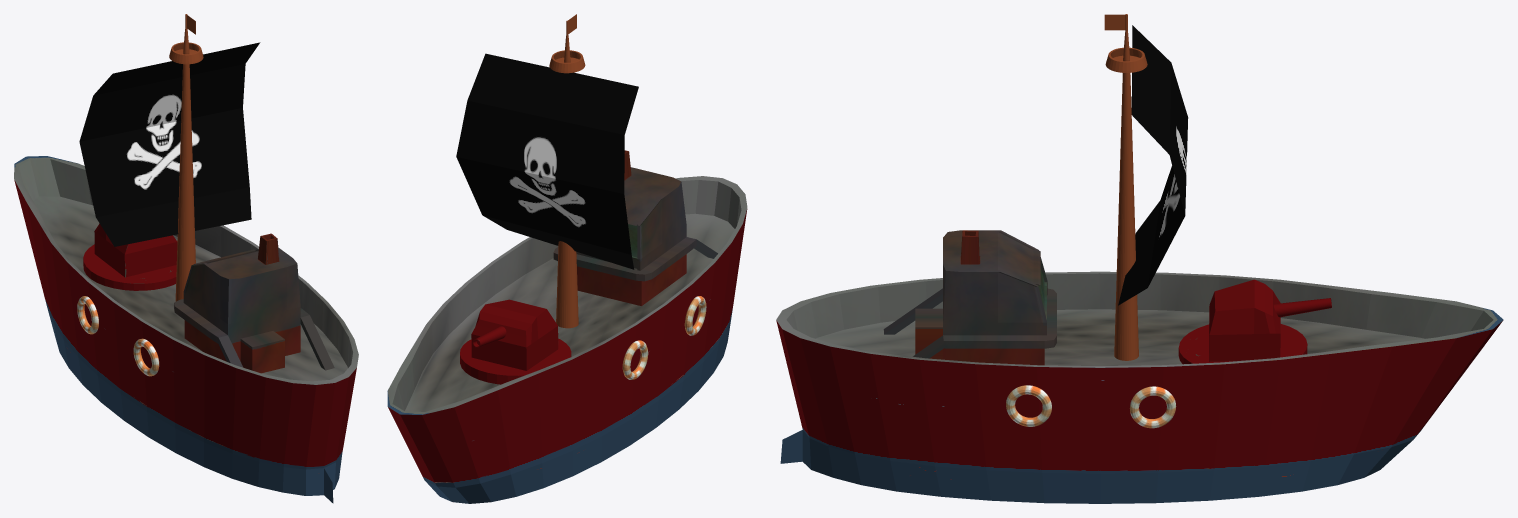
File: enemy.fbx
The picture shows the model from 3 angles, left to right: view 1: azimuth 30°, elevation 25°; view 2: azimuth 150°, elevation 25°; view 3: azimuth 270°, elevation 25°; orthographic projection. The views are drawn at different scales.
Parts seen in each view (by area): view 1: Cylinder, Plane, Cube, Cylinder.002, Cylinder.001, Torus.001, Torus; view 2: Cylinder, Plane, Cube, Cylinder.002, Cylinder.001, Torus, Torus.001; view 3: Cylinder, Cube, Plane, Cylinder.002, Cylinder.001, Torus.002, Torus.003.
Part boxes in pixels (left/top/right/bottom): Cylinder: left=14, top=156, right=358, bottom=503; Plane: left=79, top=42, right=260, bottom=246; Cube: left=174, top=233, right=334, bottom=373; Cylinder.002: left=83, top=223, right=177, bottom=290; Cylinder.001: left=169, top=14, right=203, bottom=301; Torus.001: left=133, top=338, right=159, bottom=376; Torus: left=77, top=296, right=98, bottom=334; Cylinder: left=387, top=176, right=747, bottom=503; Plane: left=456, top=53, right=638, bottom=269; Cube: left=553, top=150, right=717, bottom=305; Cylinder.002: left=460, top=299, right=571, bottom=384; Cylinder.001: left=549, top=14, right=585, bottom=328; Torus: left=622, top=340, right=648, bottom=379; Torus.001: left=684, top=296, right=706, bottom=335; Cylinder: left=776, top=271, right=1503, bottom=503; Cube: left=883, top=230, right=1056, bottom=365; Plane: left=1118, top=25, right=1188, bottom=305; Cylinder.002: left=1178, top=279, right=1331, bottom=364; Cylinder.001: left=1104, top=14, right=1147, bottom=360; Torus.002: left=1006, top=385, right=1051, bottom=426; Torus.003: left=1129, top=386, right=1176, bottom=428.
Size of the model in its own units: 255 by 531 by 780.
